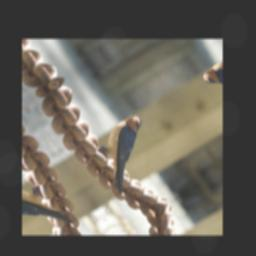Swallow: (63, 112, 177, 215)
